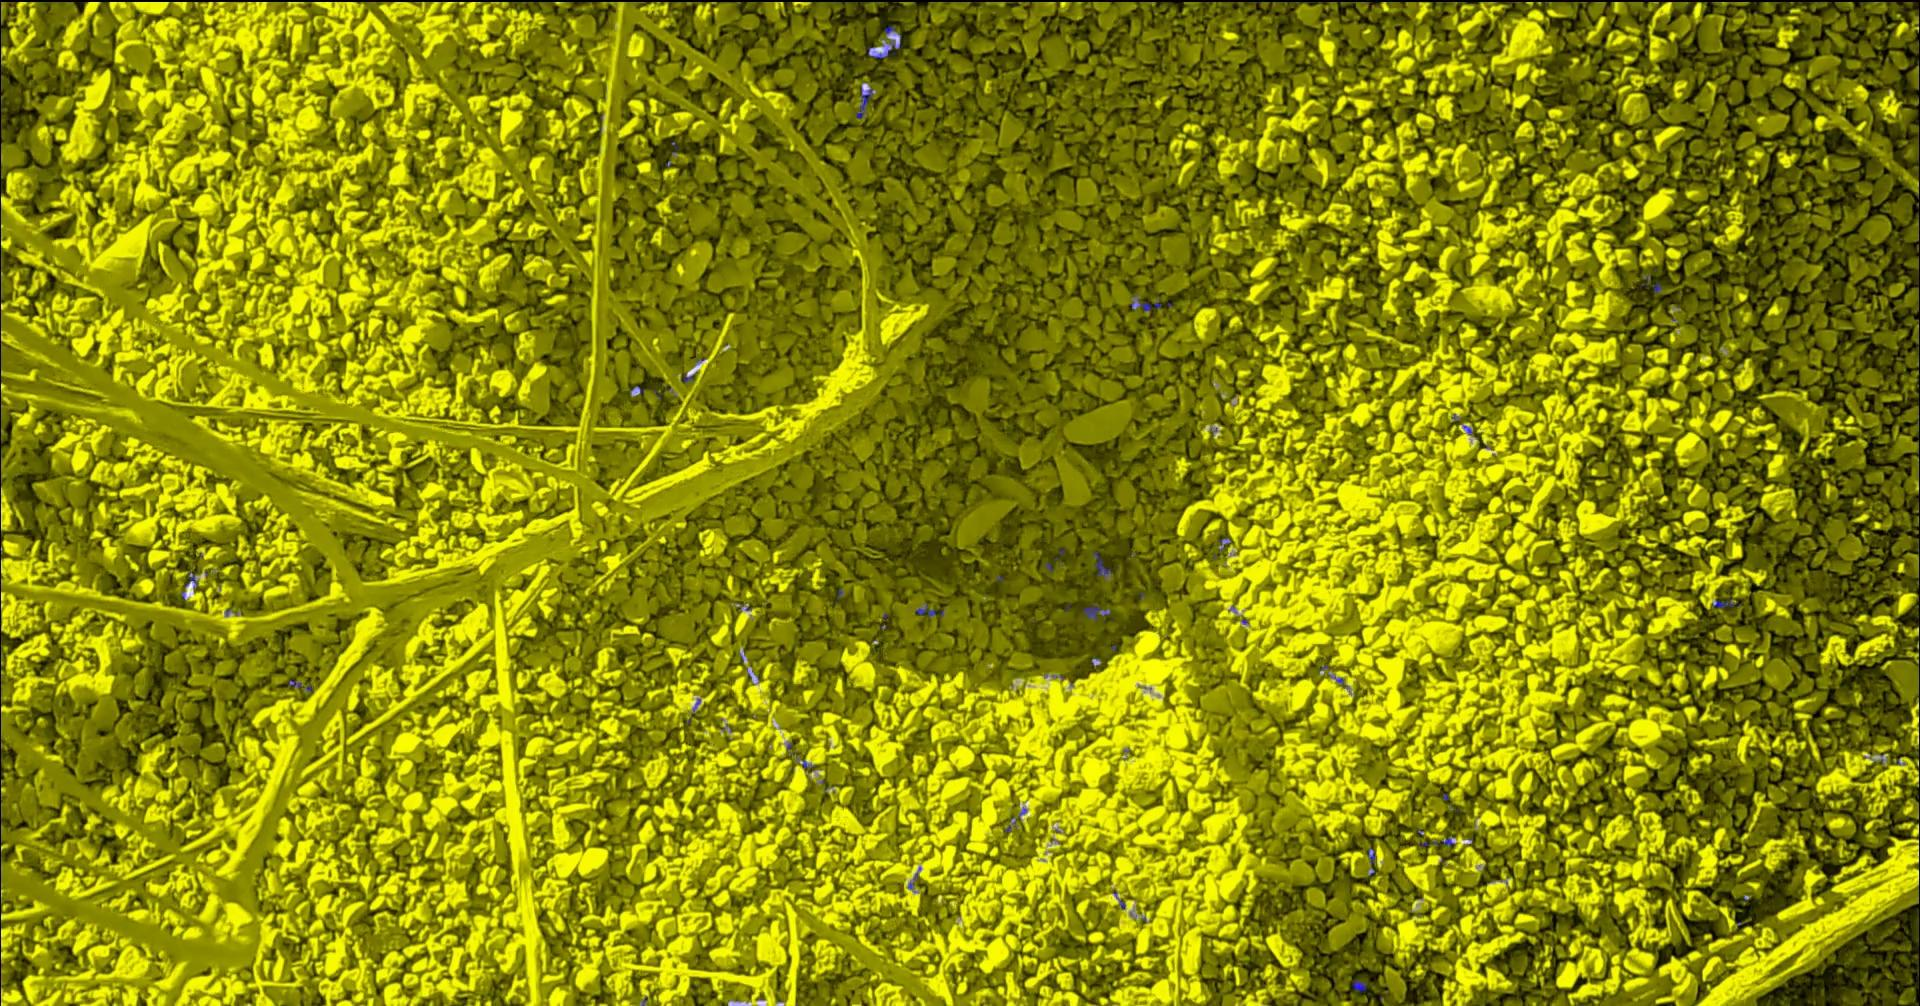ant: (869, 25, 903, 58), (1006, 807, 1029, 831), (857, 85, 874, 118), (1133, 296, 1163, 311), (1095, 551, 1112, 577), (1084, 605, 1112, 619), (1643, 274, 1663, 292), (1421, 836, 1457, 846), (917, 603, 945, 616), (1714, 600, 1742, 607), (1369, 847, 1377, 875), (1354, 979, 1368, 991)
